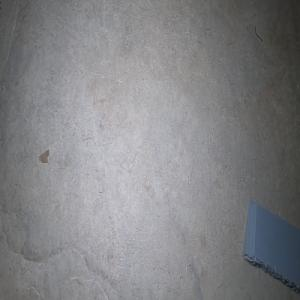PlasticPart: (242, 199, 300, 294)
